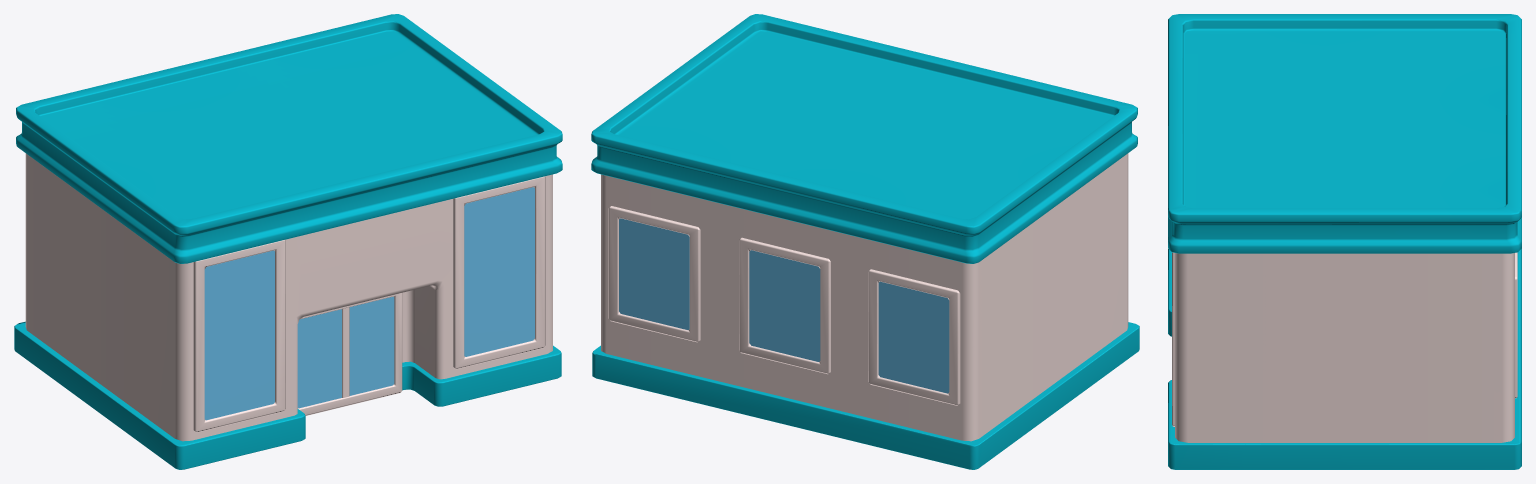
Rendered from Public_20_Dentary_1.glb.
The picture shows the model from 3 angles, left to right: view 1: azimuth 30°, elevation 25°; view 2: azimuth 150°, elevation 25°; view 3: azimuth 270°, elevation 25°; orthographic projection. The views are drawn at different scales.
Parts seen in each view (by area): view 1: Public_20_Dentary_1; view 2: Public_20_Dentary_1; view 3: Public_20_Dentary_1.
Part boxes in pixels (x1=…): Public_20_Dentary_1: x1=14, y1=14, x2=562, y2=469; Public_20_Dentary_1: x1=591, y1=14, x2=1139, y2=469; Public_20_Dentary_1: x1=1168, y1=14, x2=1521, y2=469.
Size of the model in its own units: 10.4 by 6.22 by 7.74.
1 material, 1 textured.
